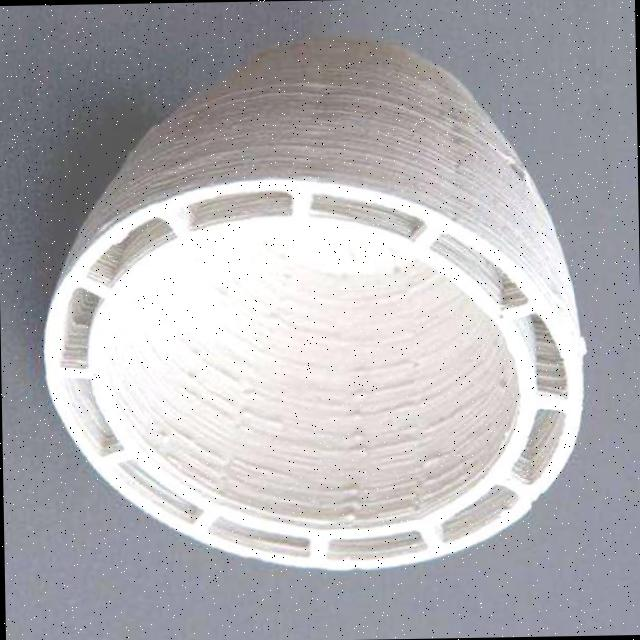blobs: (348, 437, 370, 460), (266, 309, 288, 330), (156, 423, 178, 444), (345, 478, 363, 503), (344, 492, 368, 510), (347, 400, 366, 420), (337, 508, 358, 526), (346, 426, 366, 442), (348, 385, 366, 402)
